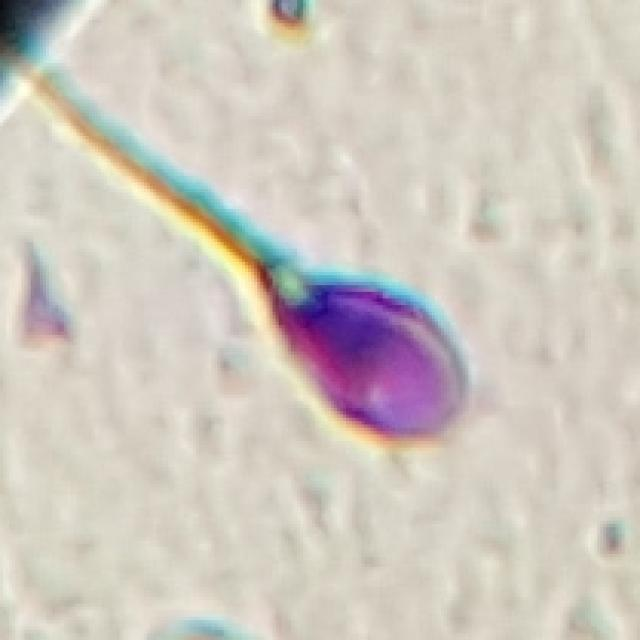normal sperm: (182, 194, 473, 443)
